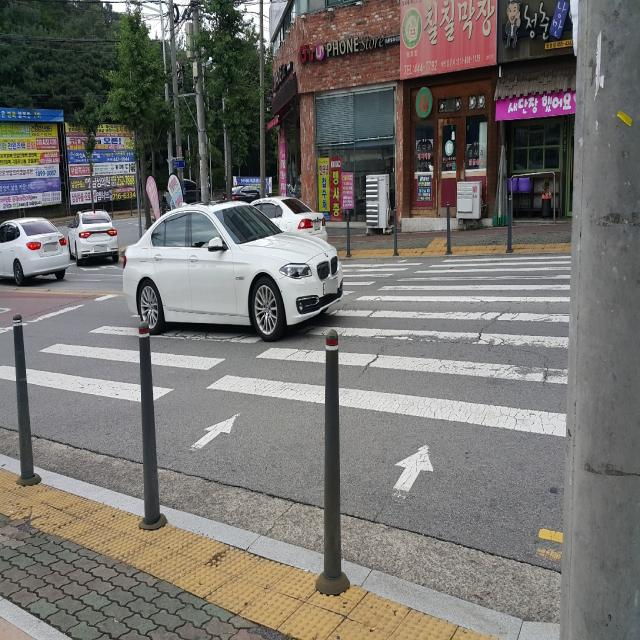횡단보도: (0, 252, 573, 496)
